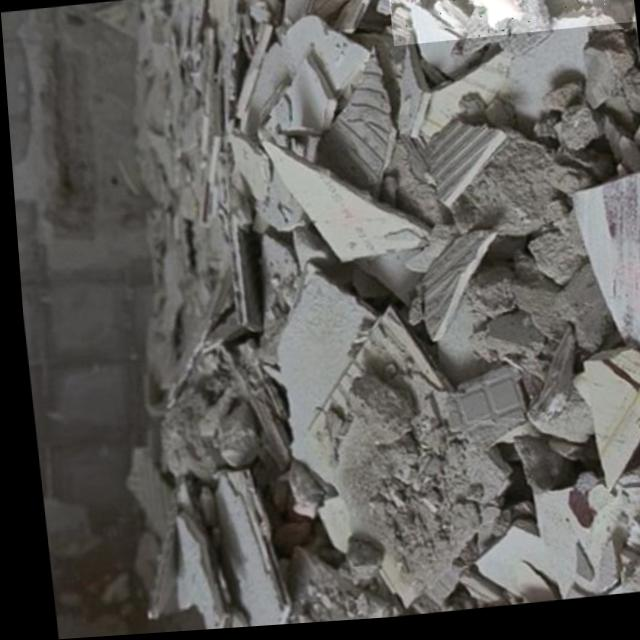Person in Rubble: (386, 0, 635, 50)
